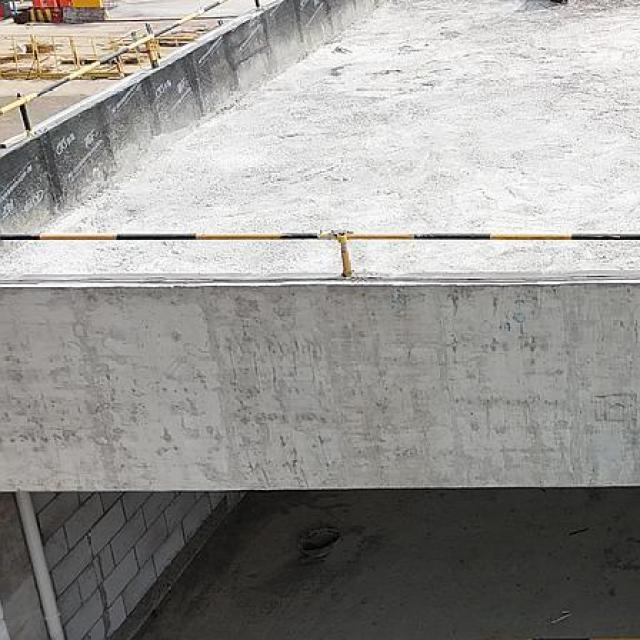Guardrail: (0, 0, 241, 134), (0, 231, 640, 276)
